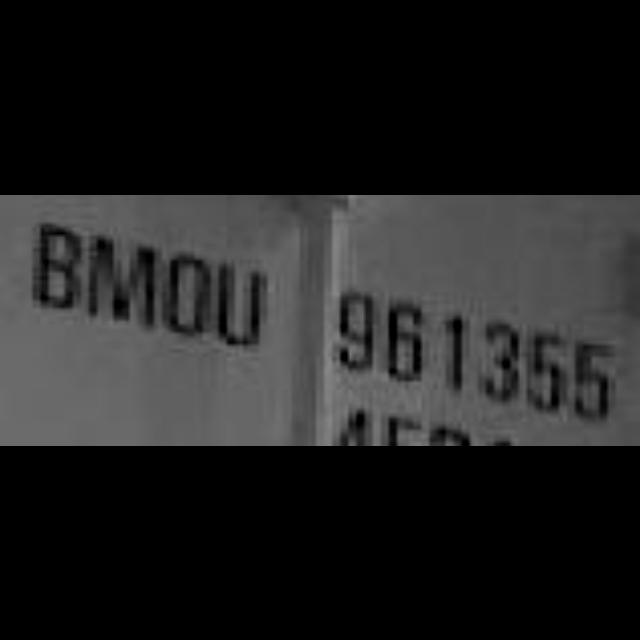1: (476, 309, 526, 409), (436, 307, 472, 401)
5: (570, 332, 618, 432), (527, 320, 567, 418)
6: (382, 292, 426, 390)
9: (328, 280, 379, 378)
b: (25, 213, 87, 314)
m: (86, 222, 160, 331)
o: (160, 238, 212, 344)
u: (212, 254, 266, 352)
